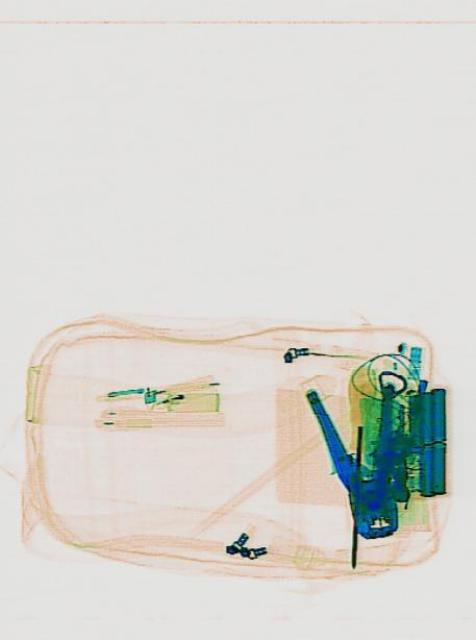Pliers: (300, 367, 413, 548)
